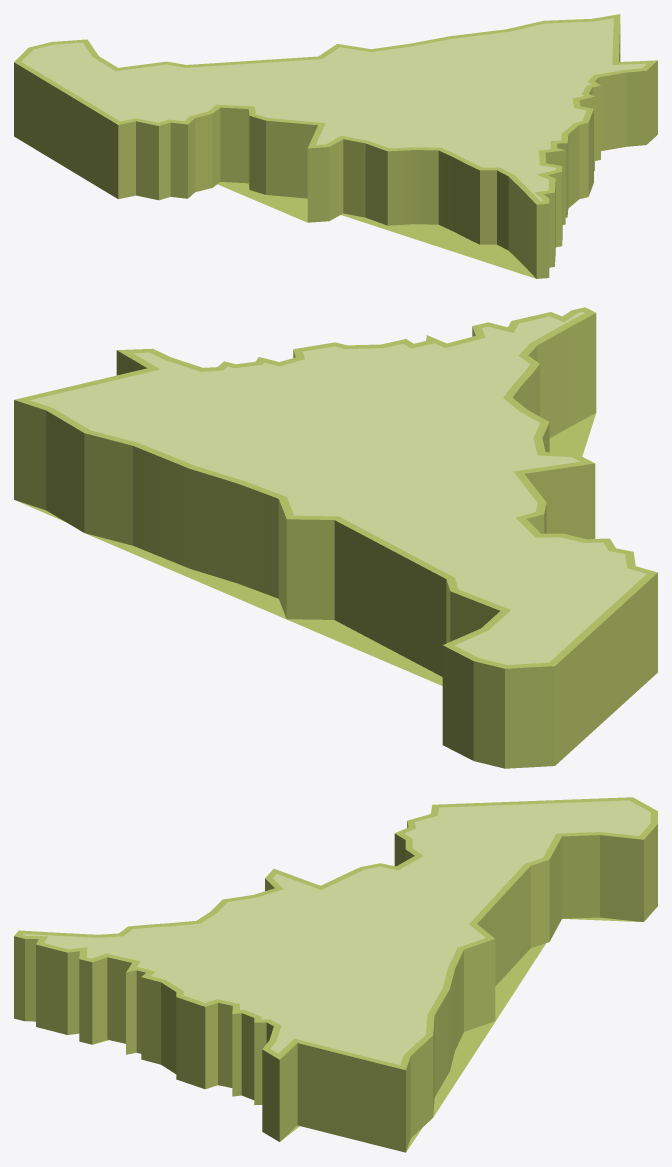
File: Islands5.006.fbx
3 renders of one model, top to bottom at view 1: azimuth 30°, elevation 25°; view 2: azimuth 150°, elevation 25°; view 3: azimuth 270°, elevation 25°, orthographic. The views are drawn at different scales.
Visible parts, largest first — view 1: Island5.006; view 2: Island5.006; view 3: Island5.006.
Part boxes in pixels (x1,y1,x2,y2): Island5.006: [14, 14, 657, 278]; Island5.006: [14, 307, 657, 768]; Island5.006: [14, 797, 657, 1152].
Bounding box in the file's own units: 178 × 25 × 177.
